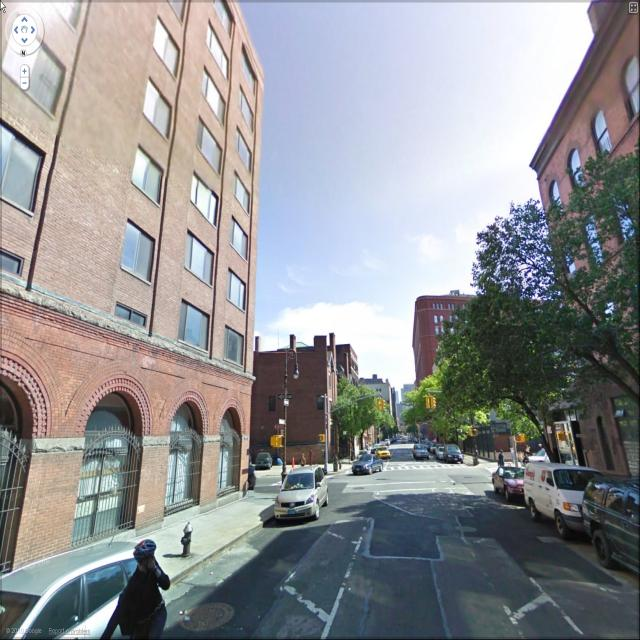b_1: (0, 9, 254, 463), (251, 322, 355, 458)
b_2: (527, 0, 640, 484), (407, 288, 557, 411)
